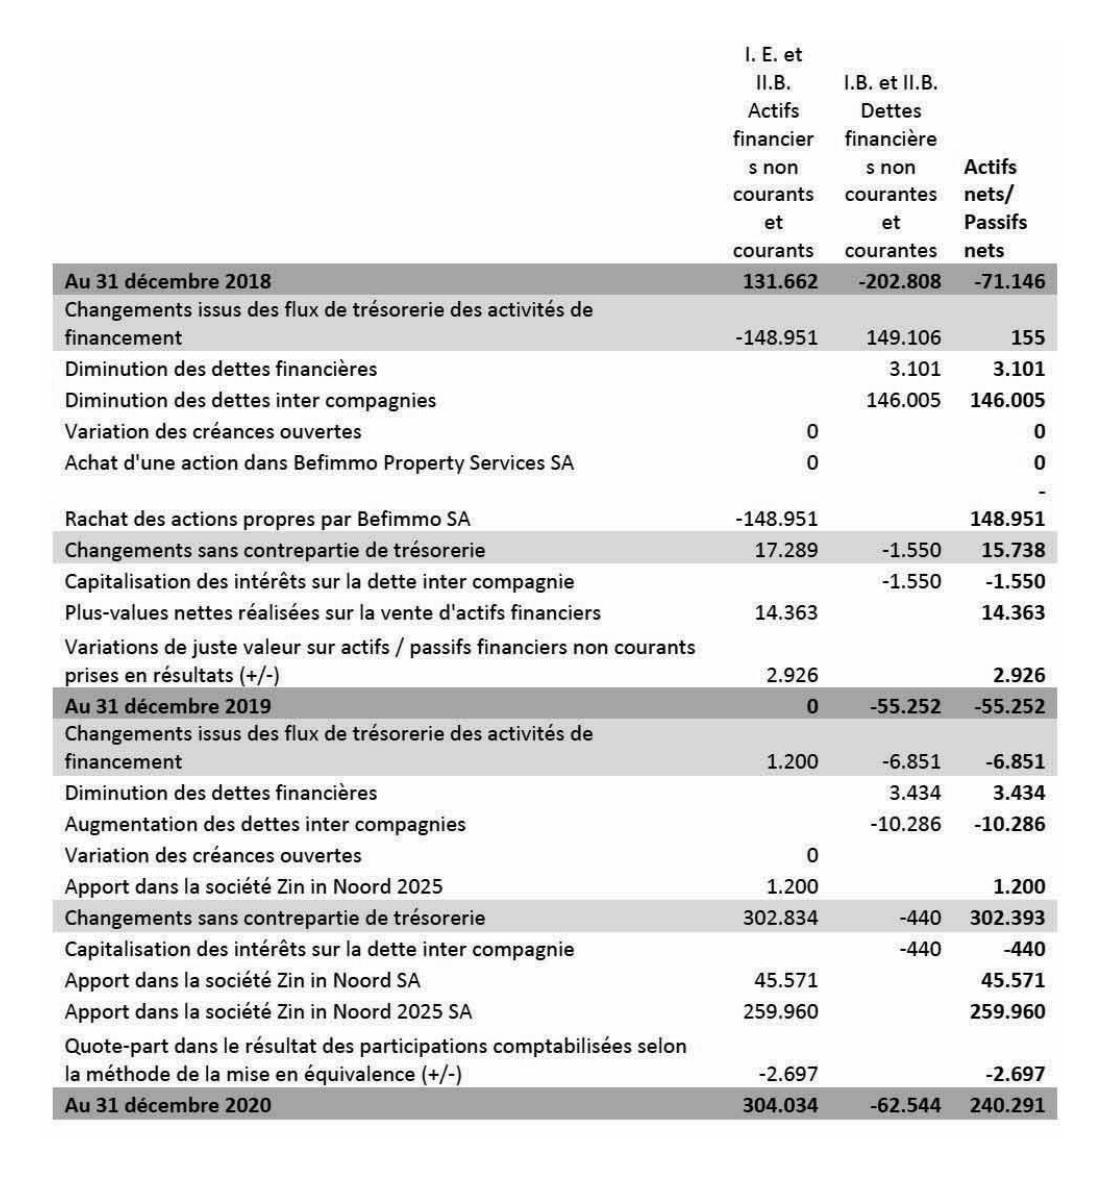table: (42, 32, 1062, 1129)
table row: (62, 636, 697, 686), (63, 1037, 687, 1057), (64, 723, 597, 746), (64, 938, 574, 961), (62, 297, 595, 319), (65, 572, 574, 594), (62, 537, 486, 563), (64, 904, 485, 930), (62, 454, 575, 475), (64, 604, 601, 623), (63, 507, 470, 528), (61, 1065, 463, 1085), (64, 390, 437, 412), (62, 971, 424, 992), (64, 813, 466, 832), (61, 1004, 477, 1021), (64, 358, 378, 378), (65, 879, 444, 895), (63, 845, 362, 866), (64, 782, 377, 802), (62, 421, 363, 440), (64, 1094, 273, 1115), (63, 270, 272, 290), (63, 697, 274, 715), (62, 748, 186, 770), (62, 327, 183, 348)
